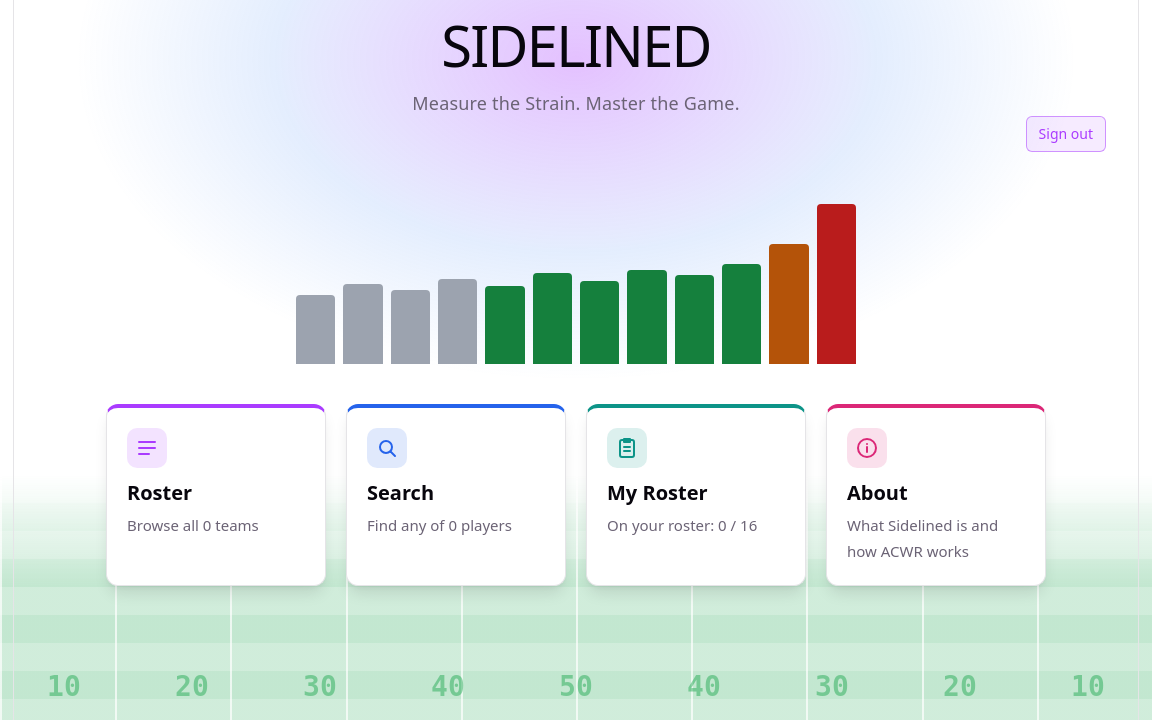
Scenario: the title links home › returns to the home page when clicked from a sub-page
This screenshot has width=1152, height=720.
Step 1. Click the button "Search Find any of 0 players" → (456, 495), box [346,404,566,586]
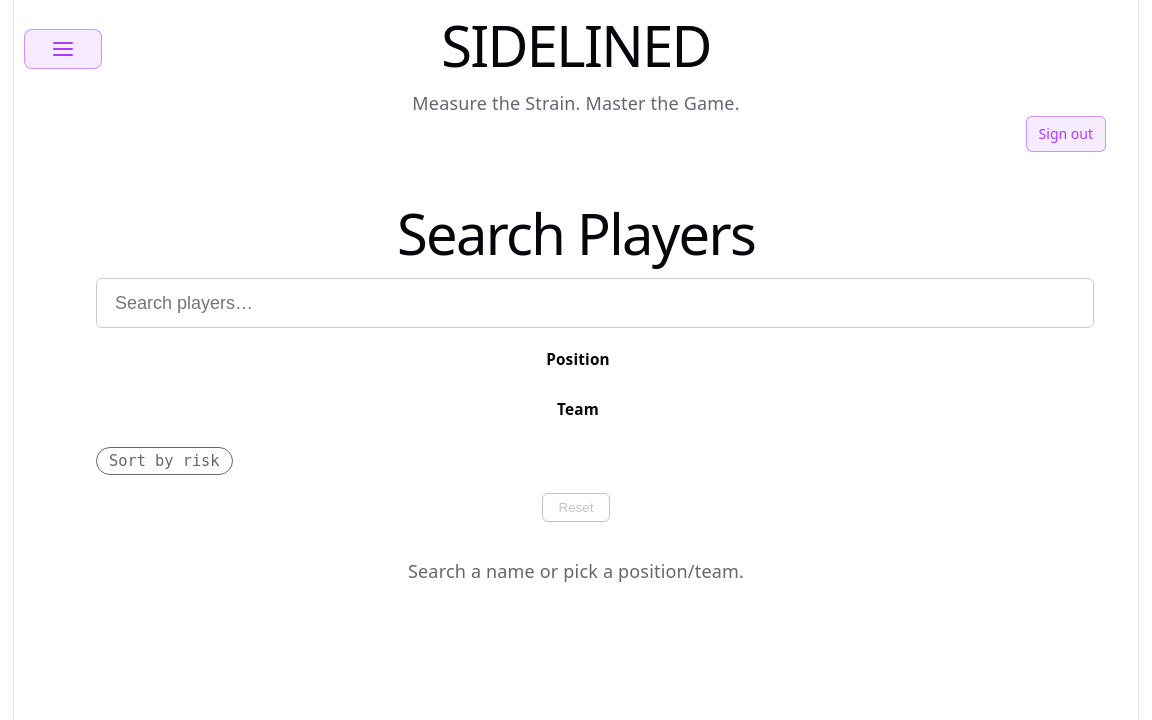
Step 2. Click the button named "SIDELINED, go to home page" → (576, 45), box [441,32,711,58]
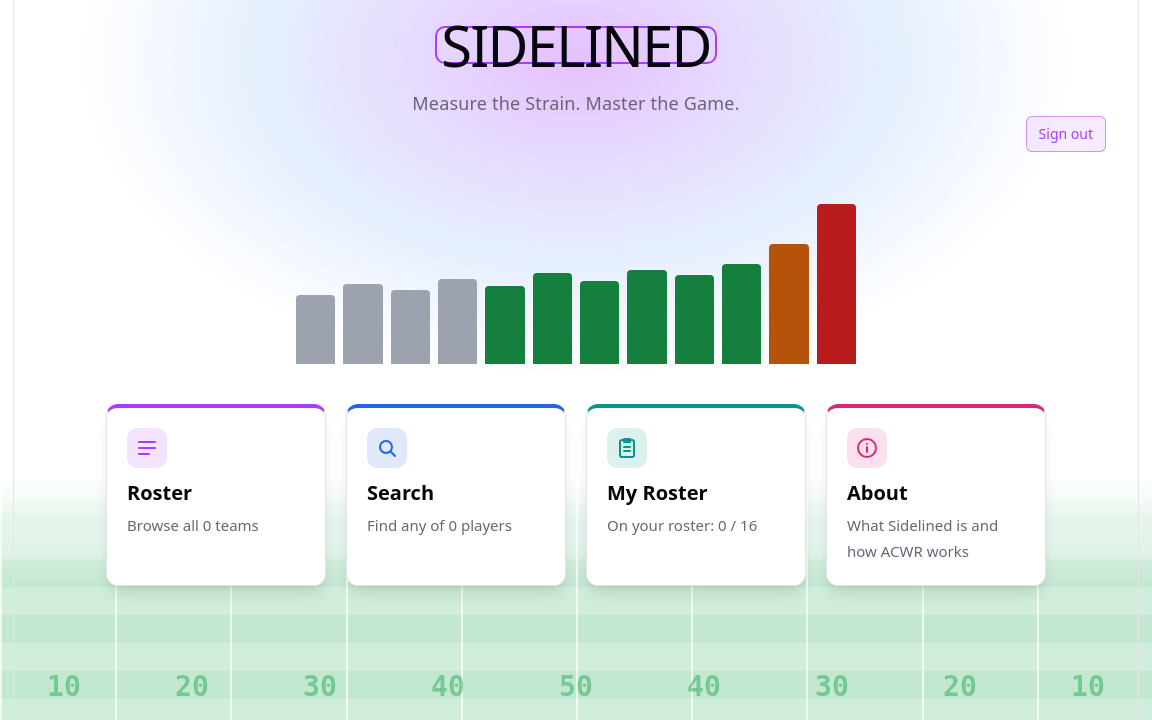
expect the element with test id "home-backdrop" is shown: met
expect the heading "Search Players" is gone: met
